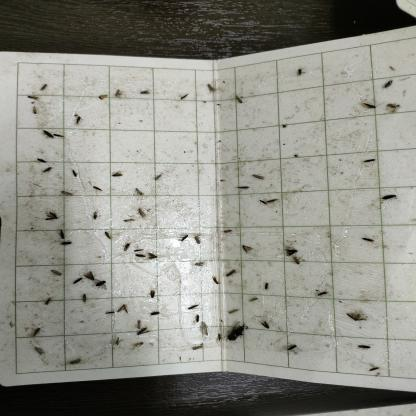prays_oleae: (344, 301, 364, 330), (117, 300, 134, 328), (253, 156, 266, 186), (41, 204, 60, 224), (32, 339, 48, 361), (258, 314, 272, 338), (234, 91, 248, 115), (361, 97, 378, 116), (242, 237, 256, 258), (204, 84, 219, 103), (110, 85, 124, 105), (67, 354, 84, 370), (94, 273, 106, 295), (212, 272, 224, 294), (132, 180, 143, 204), (388, 97, 401, 117), (356, 340, 372, 356), (41, 125, 54, 144), (23, 91, 42, 104), (315, 288, 330, 304), (361, 233, 376, 248), (193, 254, 208, 269), (236, 180, 252, 194), (381, 75, 395, 91), (152, 169, 166, 185), (138, 203, 148, 225), (72, 272, 84, 290), (51, 262, 63, 280), (61, 186, 74, 202), (361, 157, 379, 168), (286, 340, 297, 358), (74, 112, 85, 130), (103, 227, 113, 246), (262, 275, 272, 294), (223, 221, 231, 244), (92, 182, 105, 196), (149, 308, 162, 322), (380, 195, 400, 204), (187, 302, 202, 314), (85, 266, 95, 284), (113, 168, 122, 186), (40, 297, 53, 309), (30, 325, 42, 338), (148, 248, 158, 263), (57, 224, 66, 240), (121, 242, 132, 254), (138, 90, 151, 100), (180, 234, 190, 246), (59, 239, 75, 246), (31, 102, 36, 124), (226, 270, 238, 279), (72, 168, 80, 179), (180, 94, 191, 98)
